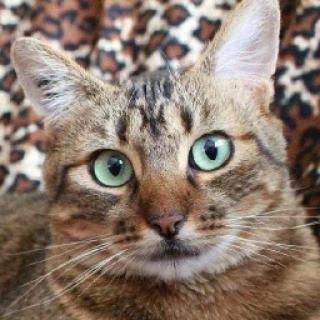cat: (17, 35, 287, 285)
nose: (137, 182, 194, 240)
